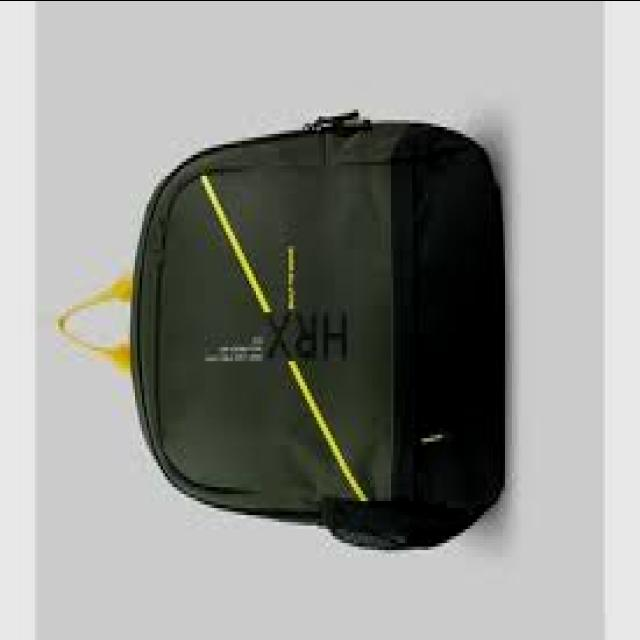backpack: (42, 75, 534, 574)
